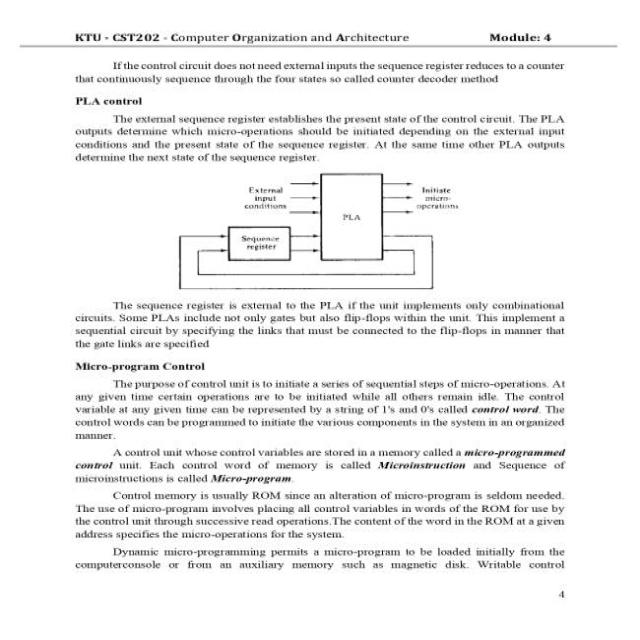Figure Detection - v3 Dataset Version2: (162, 165, 469, 295)
